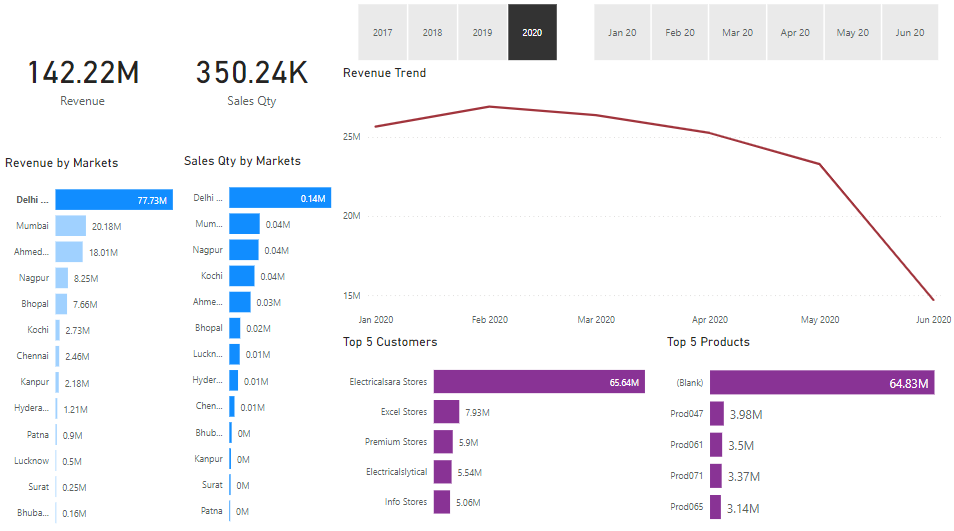

Layout of this report page (visuals, bound fields, positions):
{"tool":"powerbi","page":{"name":"Page 1","canvas":[1280,720],"ordinal":0},"visuals":[{"type":"card","fields":{"Values":["base measures.Revenue"]},"box":[0,0,218.4,208.3],"z":0},{"type":"card","fields":{"Values":["base measures.Sales Qty"]},"box":[218.4,0,235.2,208.3],"z":1000},{"type":"barChart","title":"Revenue by Markets","fields":{"Y":["base measures.Revenue"],"Category":["sales markets.markets_name"]},"box":[0,208.7,239.9,512.7],"z":2000},{"type":"barChart","title":"Sales Qty by Markets","fields":{"Y":["base measures.Sales Qty"],"Category":["sales markets.markets_name"]},"box":[239.9,207,213.6,512.7],"z":3000},{"type":"slicer","fields":{"Values":["sales date.year"]},"box":[453.5,0,315.5,88.7],"z":4000},{"type":"slicer","fields":{"Values":["sales date.cy_date"]},"box":[769,0,511,88.7],"z":5000},{"type":"barChart","title":"Top 5 Customers","fields":{"Y":["base measures.Revenue"],"Category":["sales customers.custmer_name"]},"box":[453.5,448.6,433.8,262.9],"z":6000},{"type":"barChart","title":"Top 5 Products","fields":{"Y":["base measures.Revenue"],"Category":["sales products.product_code"]},"box":[887.3,448.6,392.7,271.1],"z":7000},{"type":"lineChart","title":"Revenue Trend","fields":{"Y":["base measures.Revenue"],"Category":["sales date.cy_date"]},"box":[453.5,88.7,826.5,359.8],"z":8000}]}

Visuals, with their boxes in screenshot pixels (x1, y1, x2, y2), scaled from the page's 1280x720 canvas onto the 954x531 screenshot:
card - base measures.Revenue: left=0, top=0, right=163, bottom=154
card - base measures.Sales Qty: left=163, top=0, right=338, bottom=154
"Revenue by Markets" barChart: left=0, top=154, right=179, bottom=530
"Sales Qty by Markets" barChart: left=179, top=153, right=338, bottom=530
slicer - sales date.year: left=338, top=0, right=573, bottom=65
slicer - sales date.cy_date: left=573, top=0, right=953, bottom=65
"Top 5 Customers" barChart: left=338, top=331, right=661, bottom=525
"Top 5 Products" barChart: left=661, top=331, right=953, bottom=530
"Revenue Trend" lineChart: left=338, top=65, right=953, bottom=331
